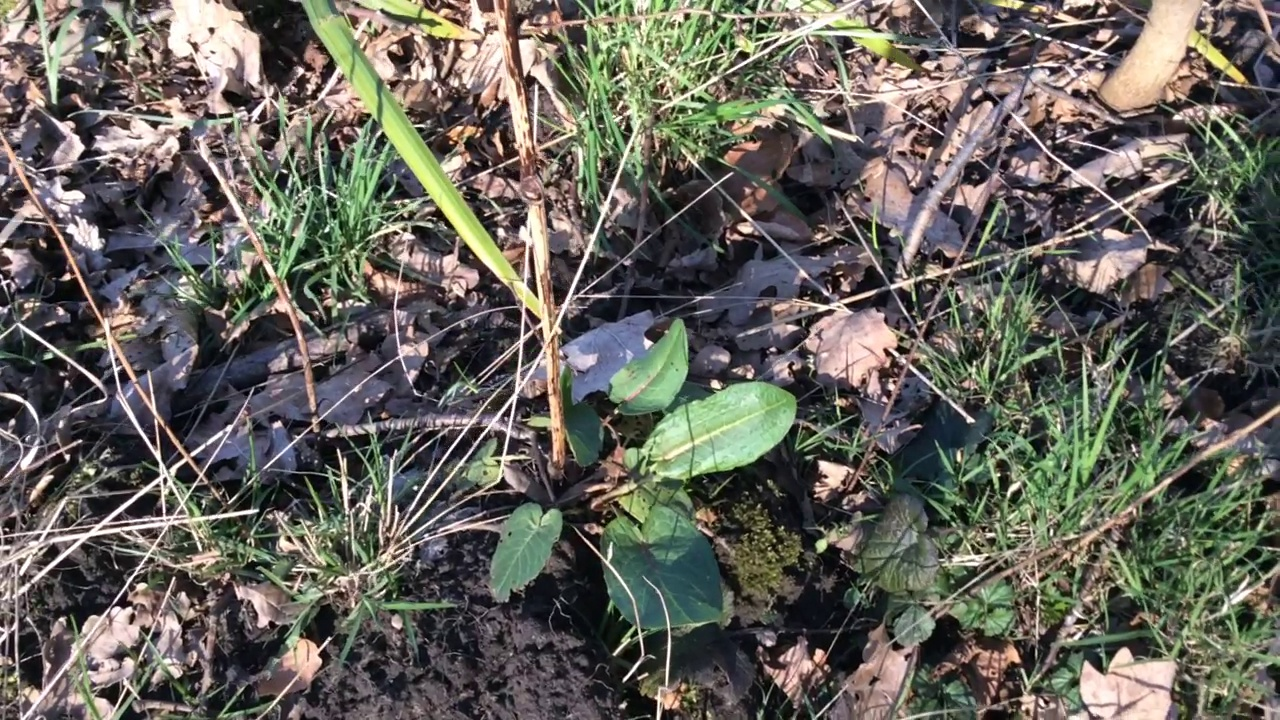rumex: (466, 315, 799, 631)
